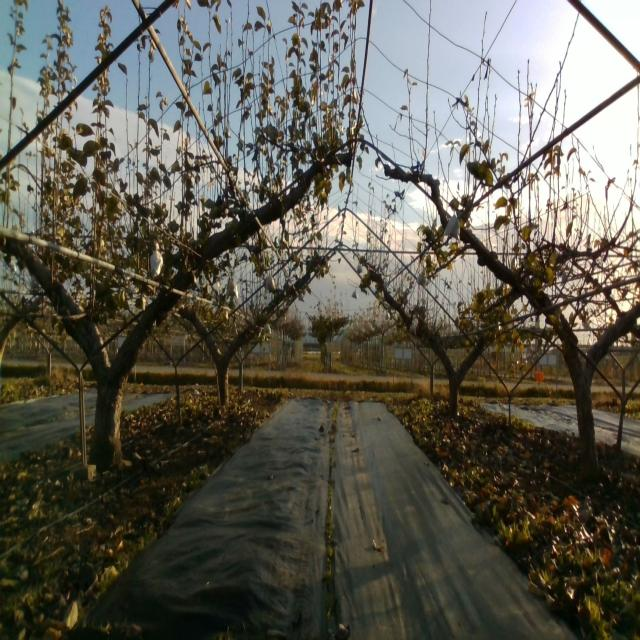pearbags: (443, 210, 462, 240), (150, 241, 162, 275), (226, 273, 239, 298), (264, 270, 276, 293)
